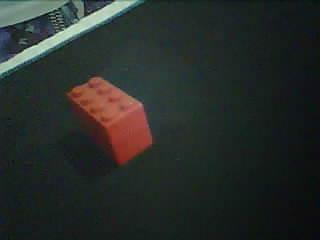lego: (63, 75, 156, 167)
